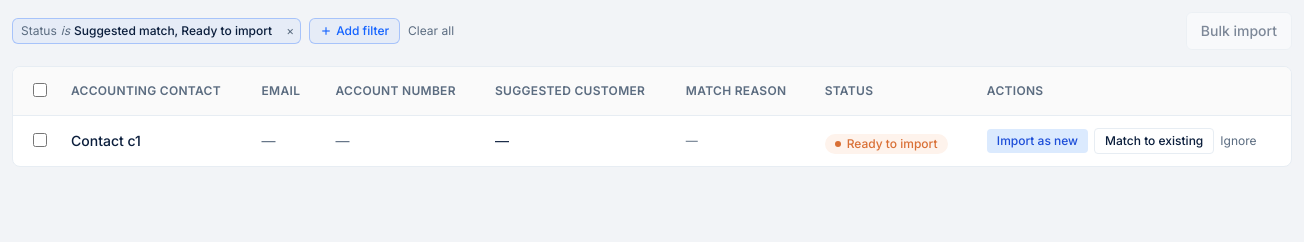
Test: ContactsTab › selecting a row enables bulk import and queues an import with the selected ids
The width and height of the screenshot is (1304, 242).
Expected: the text "Contact c1" is shown, left=55, top=116, right=246, bottom=166
Expected: the button "Bulk import" is disabled, left=1186, top=12, right=1292, bottom=50
Click the checkbox named "Select Contact c1" at (40, 140), box left=33, top=133, right=47, bottom=147
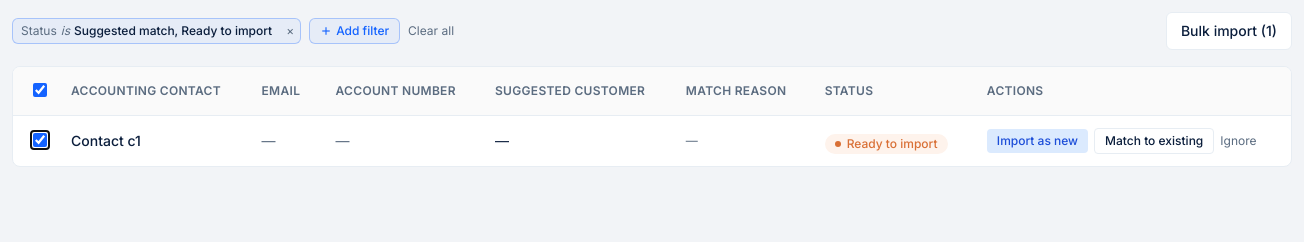
Click the button "Bulk import (1)" at (1229, 31), box left=1166, top=12, right=1292, bottom=50
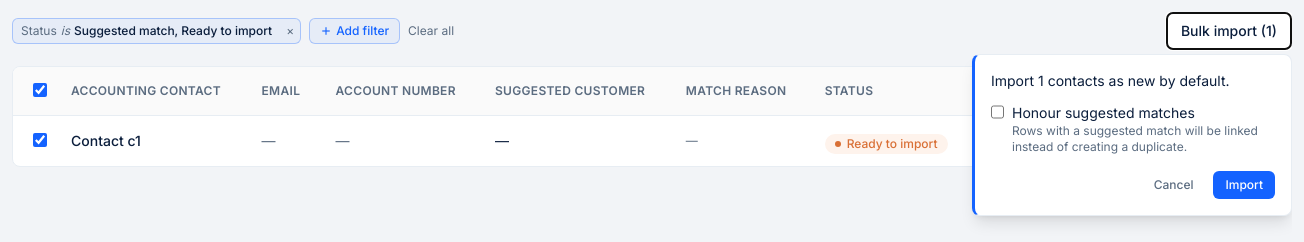
Click the button "Import" at (1244, 185), box left=1214, top=171, right=1275, bottom=199
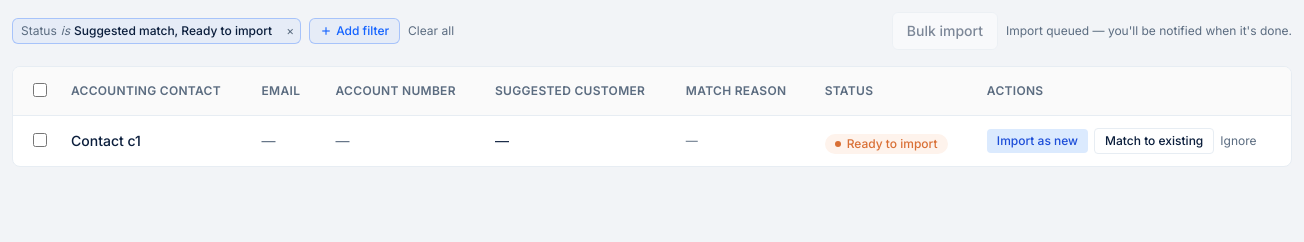
Result: the text "Import queued — you'll be notified when it's done." is shown at left=1006, top=23, right=1292, bottom=39
